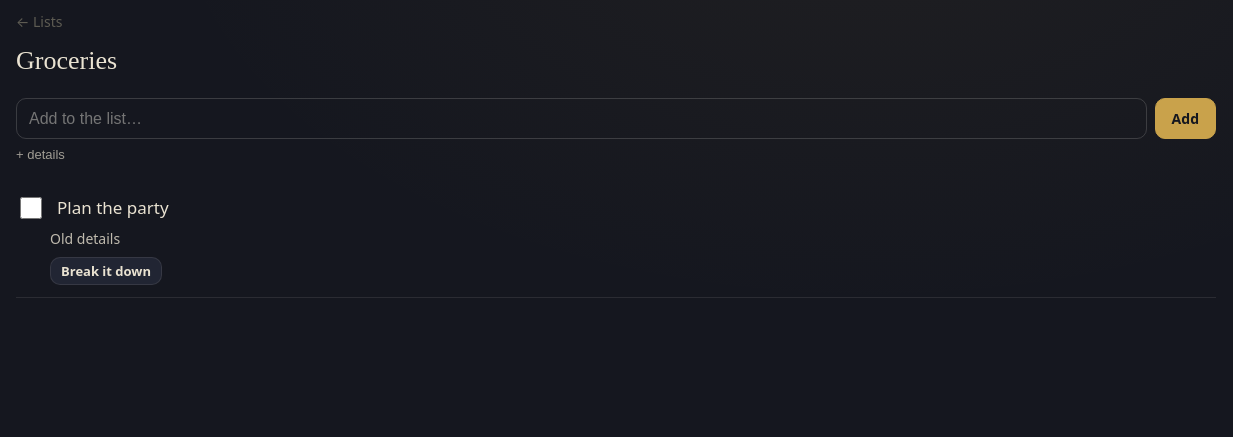
list detail — task descriptions › keeps the editor open with the typed text when the save fails
Check: the text "Plan the party" is shown, box [57,195,169,221]
Click the button with aria-label "Details for Plan the party": (85, 238) [50,228,1216,249]
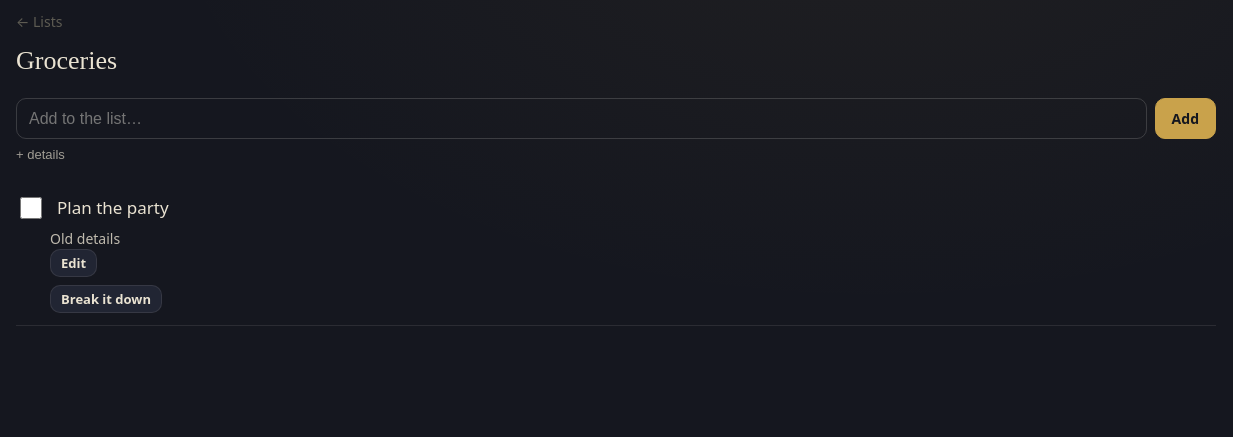
Click the button "Edit": (74, 263) [50,249,97,277]
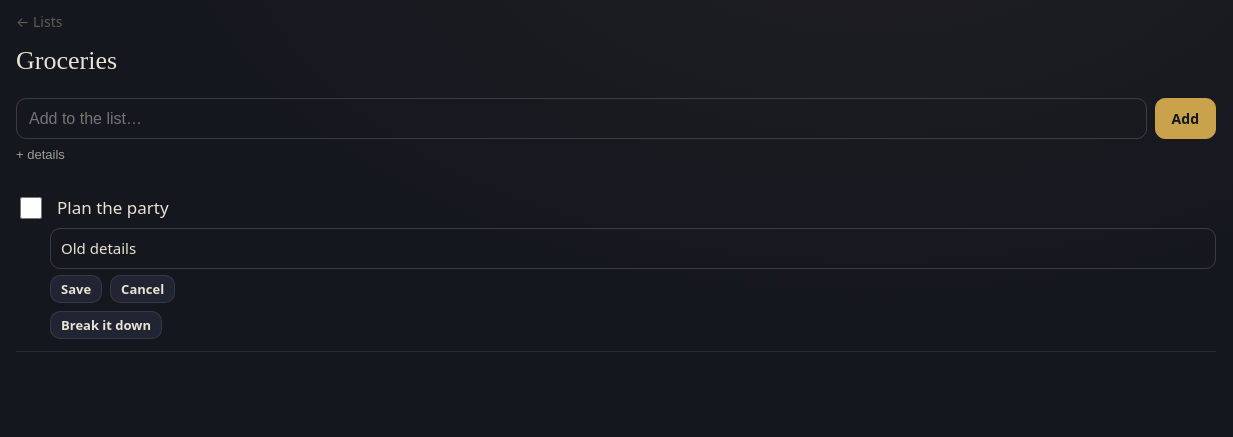
Replace the text in the text box named "Edit details for Plan the party" with "New details": (633, 248) [50,228,1216,268]
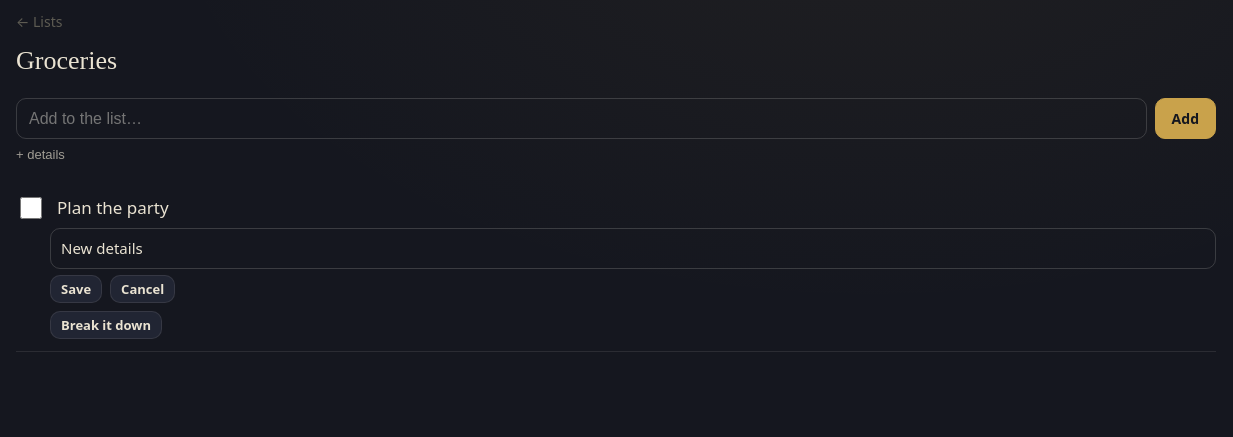
Click the button "Save": (76, 288) [50,274,102,302]
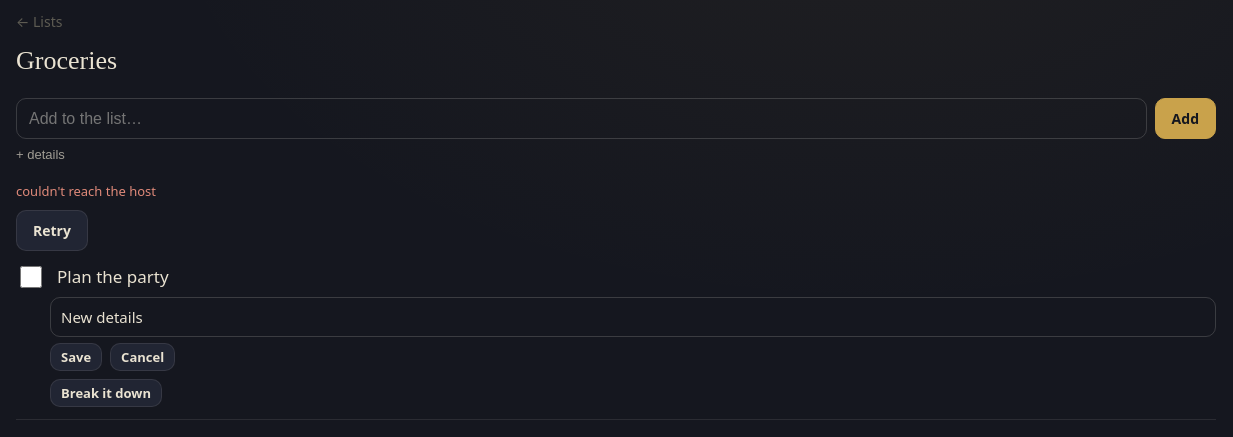
Check: the text box named "Edit details for Plan the party" holds "New details", box [50,296,1216,337]
Check: the text "couldn't reach the host" is shown, box [16,182,156,200]
